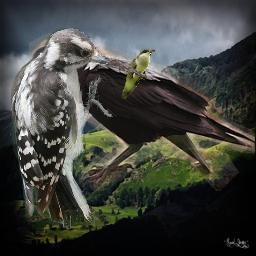Crow: (29, 33, 255, 191)
Cuckoo: (121, 49, 155, 99)
Woodpecker: (11, 28, 114, 229)
